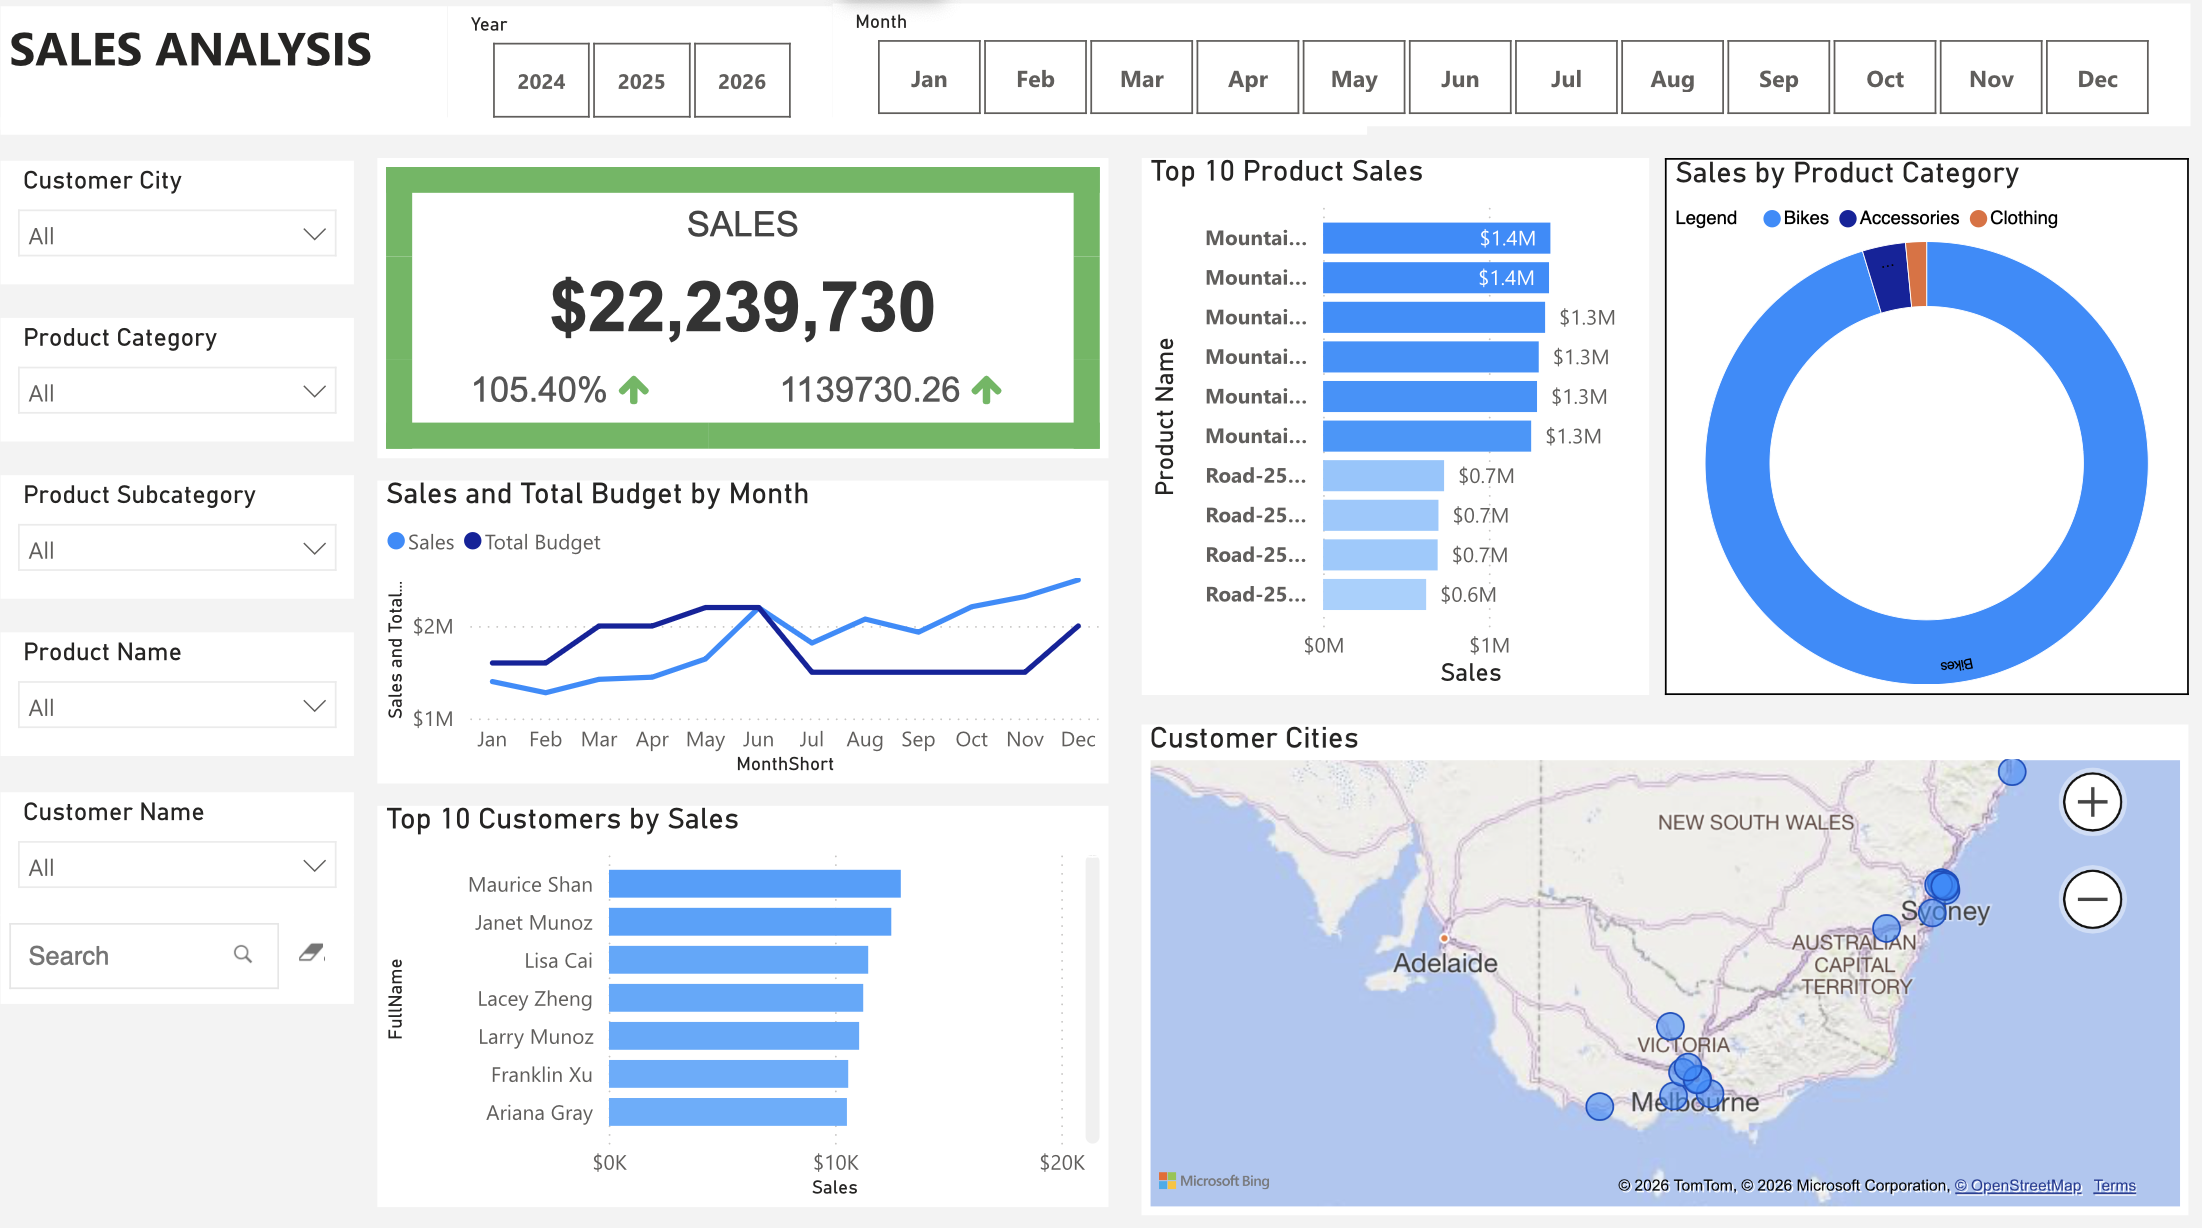

What the dashboard file says about the page in this screenshot:
{"tool":"powerbi","page":{"name":"Sales Analysis Overview","canvas":[1280,720],"ordinal":0},"visuals":[{"type":"textbox","box":[9.9,76.9,785,3.9],"z":0},{"type":"slicer","fields":{"Values":["DimCustomer.CustomerCity"]},"box":[9.9,100.6,203.1,71],"z":1000},{"type":"slicer","fields":{"Values":["DimProduct.Product Category"]},"box":[9.9,191.3,203.1,71],"z":2000},{"type":"slicer","fields":{"Values":["DimProduct.Product Subcategory"]},"box":[9.9,282,203.1,71],"z":3000},{"type":"slicer","fields":{"Values":["DimProduct.Product Name"]},"box":[9.9,372.8,203.1,71],"z":4000},{"type":"slicer","fields":{"Values":["DimCalendar.Year"]},"box":[266.3,11.8,220.9,71],"z":5000},{"type":"slicer","fields":{"Values":["DimCalendar.MonthShort"]},"box":[487.2,11,780.2,70.5],"z":6000},{"type":"map","title":"Customer Cities","fields":{"Category":["DimCustomer.CustomerCity"]},"box":[664.3,424.6,601.6,282],"z":7000},{"type":"BBED0A4D4D8D44CE93CF2DAFADEE466C","fields":{"actual":["Key Measures.Sales"],"target1":["Key Measures.Sales  /  Total Budget"],"target2":["Key Measures.Sales - Budget"]},"box":[225.6,100.3,419.9,172.3],"z":8000},{"type":"Sunburst1445472000808","fields":{"Nodes":["DimProduct.Product Category"],"Values":["Key Measures.Sales"]},"box":[965.1,100.3,300.8,308.6],"z":9000},{"type":"barChart","title":"Top 10 Customers by Sales","fields":{"Category":["DimCustomer.FullName"],"Y":["Key Measures.Sales"]},"box":[225.6,471.6,419.9,230.3],"z":10000},{"type":"barChart","title":"Top 10 Product Sales","fields":{"Category":["DimProduct.Product Name"],"Y":["Key Measures.Sales"]},"box":[664.3,100.3,291.4,308.6],"z":11000},{"type":"lineChart","title":"Sales and Total Budget by Month","fields":{"Y":["Key Measures.Sales","Key Measures.Total Budget"],"Category":["DimCalendar.MonthShort"]},"box":[225.6,285.1,419.9,173.9],"z":12000},{"type":"slicer","fields":{"Values":["DimCustomer.FullName"]},"box":[9.9,463.5,203.1,71],"z":14000},{"type":"textFilter25A4896A83E0487089E2B90C9AE57C8A","title":"Customer Name","fields":{"field":["DimCustomer.FullName"]},"box":[9.9,534.5,203.1,51.3],"z":15000},{"type":"textbox","title":"SALES ANALYSIS","box":[9.9,11.8,256.4,71],"z":15500}]}

Visuals, with their boxes in screenshot pixels (x1, y1, x2, y2), scaled from the page's 1280x720 canvas onto the 2202x1228 screenshot:
textbox: <box>17,131,1367,138</box>
slicer - DimCustomer.CustomerCity: <box>17,172,366,293</box>
slicer - DimProduct.Product Category: <box>17,326,366,447</box>
slicer - DimProduct.Product Subcategory: <box>17,481,366,602</box>
slicer - DimProduct.Product Name: <box>17,636,366,757</box>
slicer - DimCalendar.Year: <box>458,20,838,141</box>
slicer - DimCalendar.MonthShort: <box>838,19,2180,139</box>
"Customer Cities" map: <box>1143,724,2178,1205</box>
BBED0A4D4D8D44CE93CF2DAFADEE466C - Key Measures.Sales x Key Measures.Sales  /  Total Budget: <box>388,171,1110,465</box>
Sunburst1445472000808 - DimProduct.Product Category x Key Measures.Sales: <box>1660,171,2178,697</box>
"Top 10 Customers by Sales" barChart: <box>388,804,1110,1197</box>
"Top 10 Product Sales" barChart: <box>1143,171,1644,697</box>
"Sales and Total Budget by Month" lineChart: <box>388,486,1110,783</box>
slicer - DimCustomer.FullName: <box>17,791,366,912</box>
"Customer Name" textFilter25A4896A83E0487089E2B90C9AE57C8A: <box>17,912,366,999</box>
"SALES ANALYSIS" textbox: <box>17,20,458,141</box>
